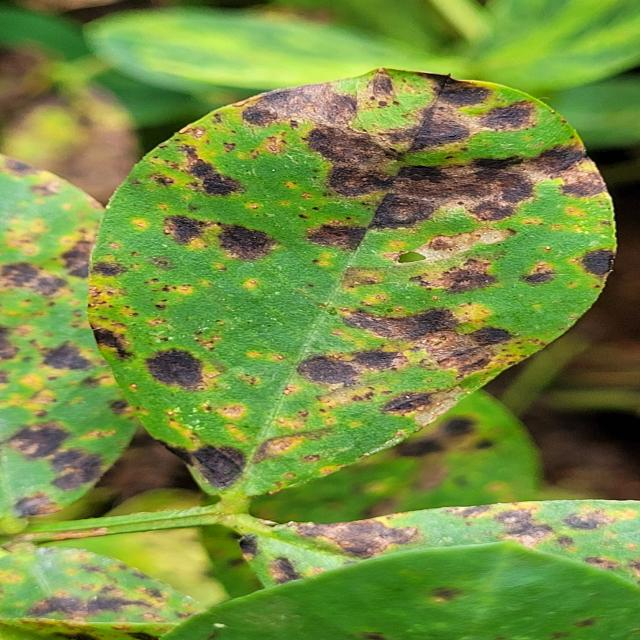Ground nut_tikka leaf spot: (96, 67, 624, 519)
